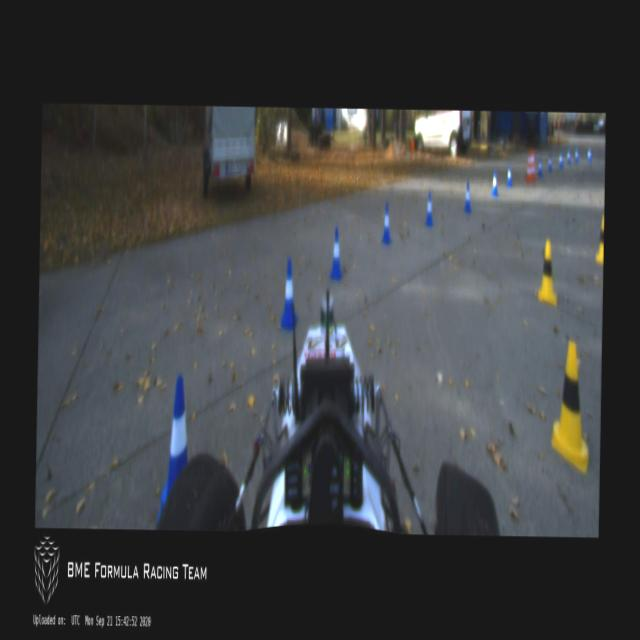blue_cone: (156, 374, 188, 528), (279, 257, 298, 330), (328, 226, 342, 282), (380, 202, 391, 242), (424, 191, 434, 225), (462, 182, 471, 210), (491, 168, 498, 195), (506, 164, 512, 188), (536, 154, 542, 177), (547, 152, 553, 170), (558, 150, 563, 169), (566, 146, 571, 165), (587, 144, 592, 163), (574, 145, 578, 163)
large_orange_cone: (530, 147, 536, 183), (524, 148, 530, 182)
yellow_cone: (548, 338, 592, 473), (537, 239, 557, 304), (594, 214, 604, 265)
